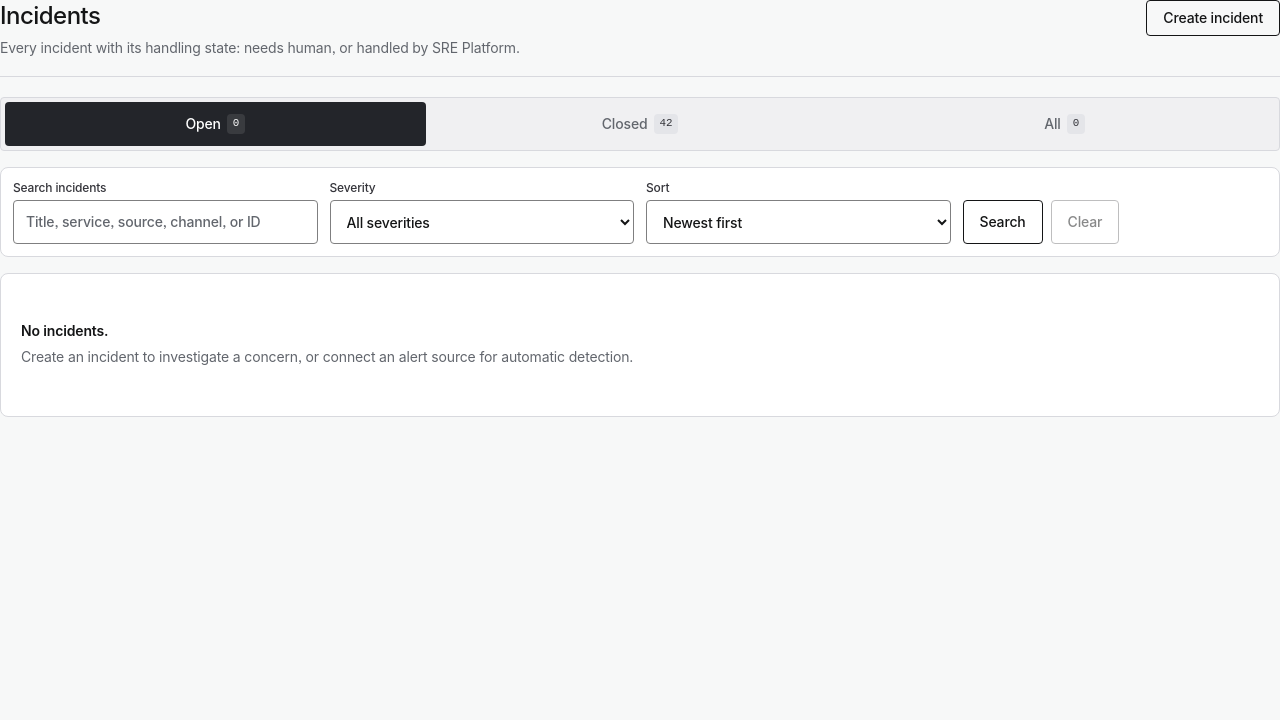
Test: IncidentsPanel pagination live region › the last page announces that there are no more rows
What coordinates should you click on to do the following:
click the tab "Closed 42"
I would click on:
 (640, 124)
Its box is [430,102,850,146].
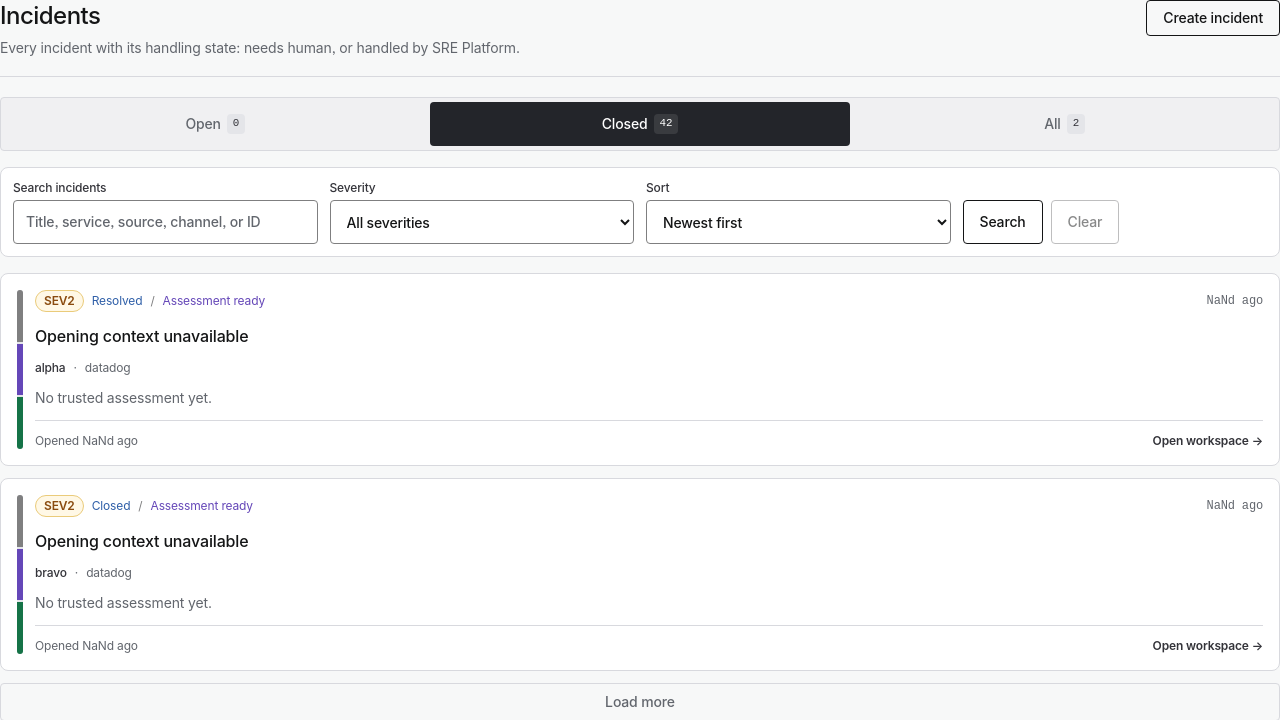
What coordinates should you click on to do the following:
click the button "Load more"
I would click on:
 (640, 702)
Its box is [0,683,1279,719].
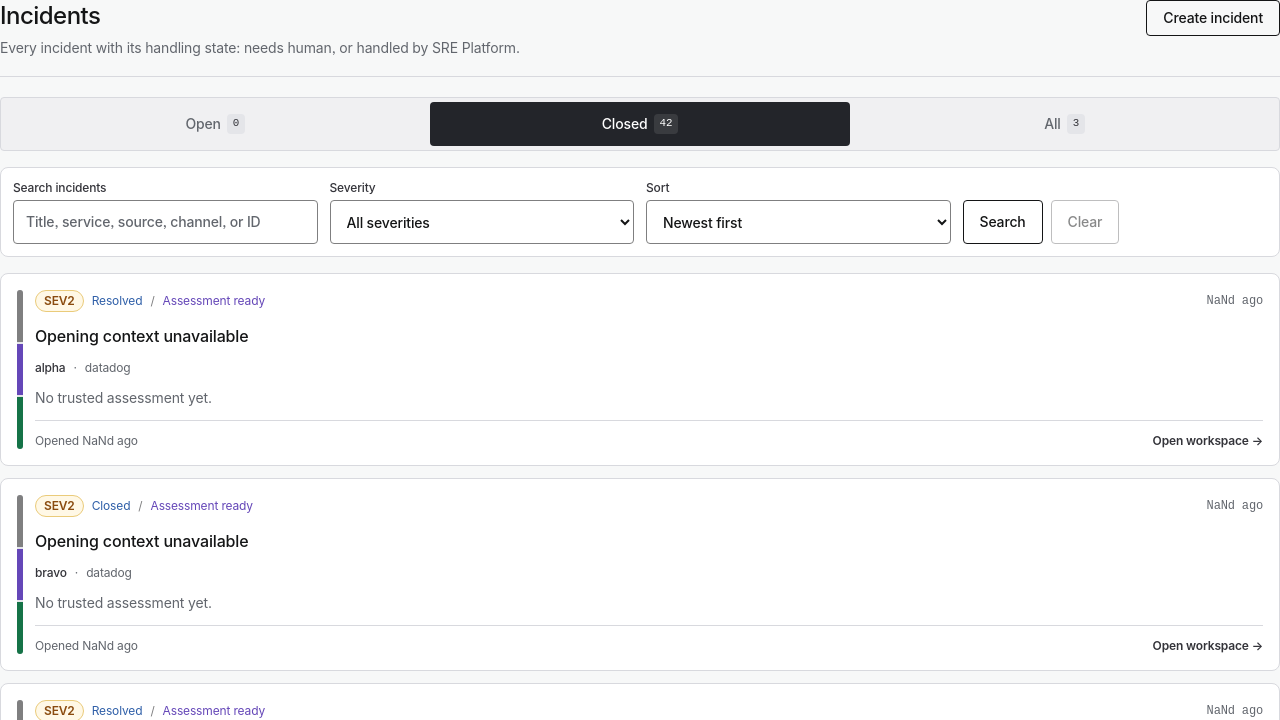
Expected: the button "Load more" is gone
